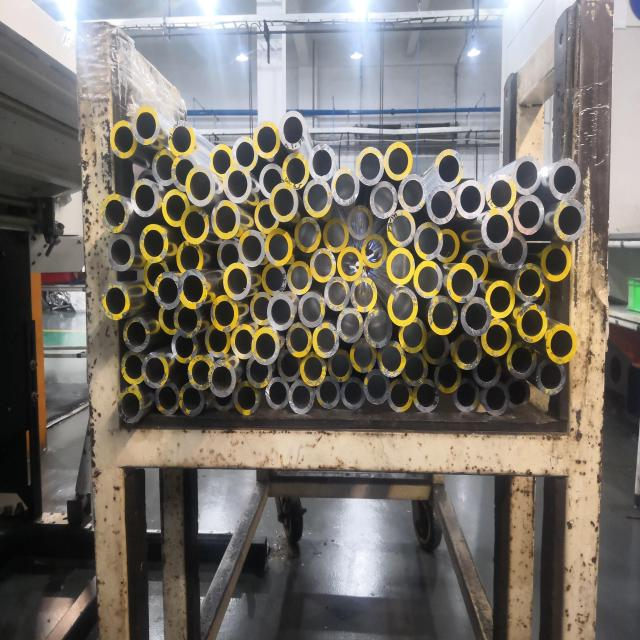pipe: (548, 156, 582, 202), (552, 198, 587, 242), (480, 207, 514, 251), (512, 193, 546, 236), (445, 262, 479, 304), (544, 323, 578, 365), (386, 285, 419, 328), (184, 164, 216, 208), (516, 302, 549, 344), (513, 261, 546, 303), (425, 183, 457, 226), (426, 295, 459, 336), (459, 296, 492, 337), (176, 268, 208, 310), (210, 198, 242, 240), (480, 316, 512, 358), (496, 230, 528, 272), (510, 154, 542, 196), (505, 339, 537, 380), (99, 192, 130, 234), (382, 140, 413, 182), (397, 172, 428, 214), (432, 147, 463, 189), (455, 178, 486, 220), (450, 332, 483, 371), (138, 223, 170, 263), (534, 357, 566, 397), (484, 279, 516, 319), (540, 242, 572, 282), (302, 177, 333, 218), (354, 146, 385, 187), (413, 220, 444, 261), (269, 181, 299, 223), (363, 308, 393, 350), (485, 173, 517, 212), (222, 164, 253, 204), (376, 339, 407, 379), (385, 246, 416, 286), (412, 259, 443, 299), (180, 204, 210, 245), (330, 166, 360, 207), (368, 179, 398, 220), (130, 177, 159, 219), (106, 232, 136, 272), (100, 281, 130, 321), (222, 262, 252, 302), (207, 358, 237, 398), (250, 326, 280, 366), (278, 110, 308, 150), (264, 227, 294, 267), (306, 142, 336, 182), (386, 208, 416, 248), (131, 105, 160, 146), (153, 270, 182, 311), (252, 119, 281, 160), (209, 294, 239, 333), (296, 290, 326, 329), (161, 188, 190, 228), (122, 314, 151, 354), (141, 350, 170, 390), (281, 151, 310, 191), (266, 292, 295, 332), (398, 316, 428, 354), (472, 351, 502, 389), (109, 120, 138, 159), (293, 215, 322, 254), (362, 367, 391, 406), (237, 228, 265, 268), (348, 337, 378, 374), (451, 376, 481, 413), (232, 379, 261, 417), (299, 350, 328, 388), (349, 276, 378, 314), (171, 152, 198, 192), (174, 239, 204, 275), (167, 120, 196, 157), (173, 302, 202, 339), (312, 322, 341, 359), (433, 357, 462, 394), (481, 380, 510, 417), (116, 386, 144, 424), (322, 215, 350, 253), (346, 203, 374, 241), (336, 306, 364, 344), (170, 330, 200, 365), (400, 351, 429, 387), (230, 135, 258, 172), (285, 321, 313, 358), (308, 246, 336, 283), (336, 245, 364, 282), (360, 232, 388, 269), (422, 329, 450, 366), (461, 248, 489, 285), (245, 354, 273, 390), (326, 347, 354, 383), (386, 377, 414, 413), (412, 377, 440, 413), (504, 375, 532, 411), (153, 379, 180, 416), (178, 381, 205, 418), (186, 354, 213, 391), (286, 259, 313, 296), (151, 148, 177, 186), (230, 322, 256, 360), (260, 261, 288, 296), (287, 380, 315, 415), (204, 322, 231, 358), (253, 198, 280, 234), (324, 276, 351, 312), (258, 162, 284, 199), (142, 259, 170, 293), (120, 348, 145, 386), (264, 375, 291, 410), (435, 227, 460, 264), (339, 376, 366, 410), (208, 143, 234, 178), (316, 374, 341, 410), (216, 238, 242, 272), (276, 348, 302, 382), (248, 290, 272, 326), (158, 304, 179, 336), (210, 390, 235, 412), (536, 281, 551, 309), (136, 168, 159, 184)
